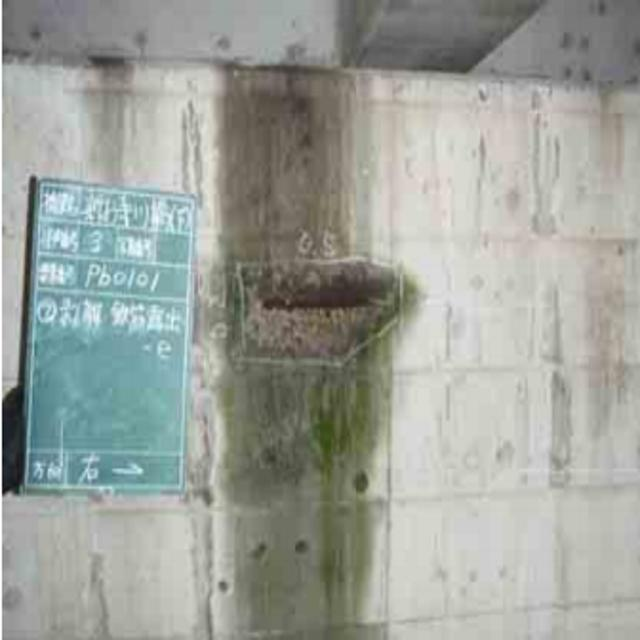leakage: (230, 386, 386, 637), (223, 53, 364, 251)
spalling: (237, 266, 392, 357)
